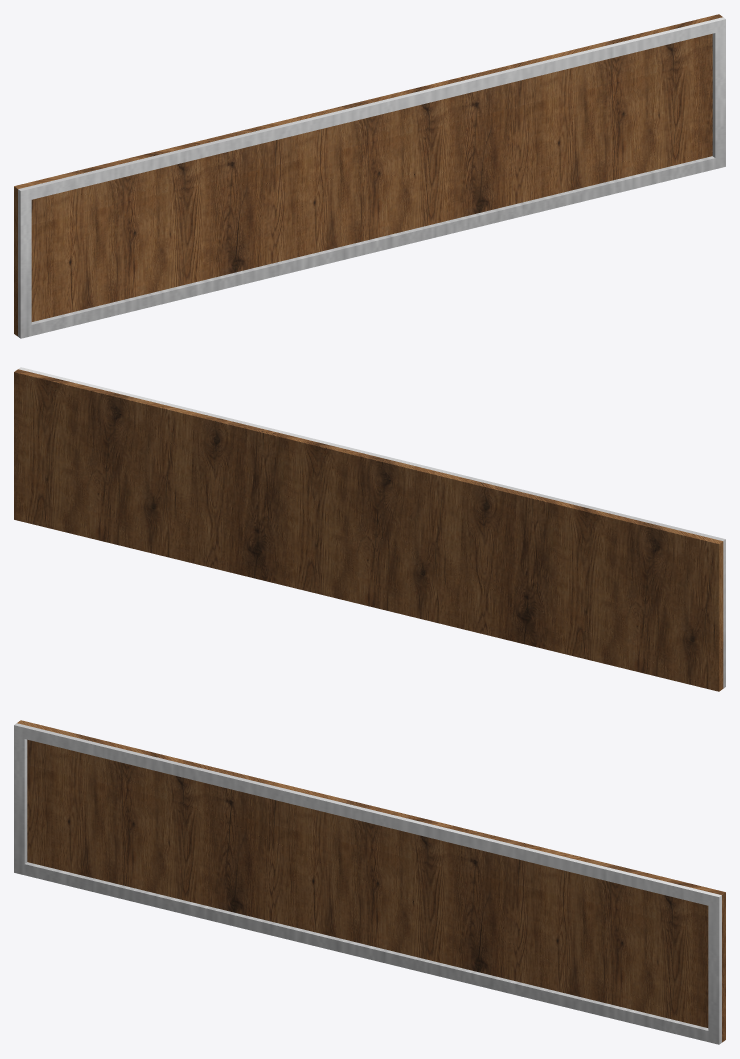
Rendered from panal.glb.
The picture shows the model from 3 angles, top to bottom: view 1: azimuth 30°, elevation 25°; view 2: azimuth 150°, elevation 25°; view 3: azimuth 330°, elevation 25°; orthographic projection.
Parts seen in each view (by area): view 1: panal; view 2: panal; view 3: panal.
Part boxes in pixels (box(x1,y1,x2,y2)): panal: box(14, 14, 725, 338); panal: box(14, 367, 725, 691); panal: box(14, 720, 725, 1044).
Size of what is drawn, in the model's own units: 10 by 2 by 0.1675.
2 materials, 2 textured.
